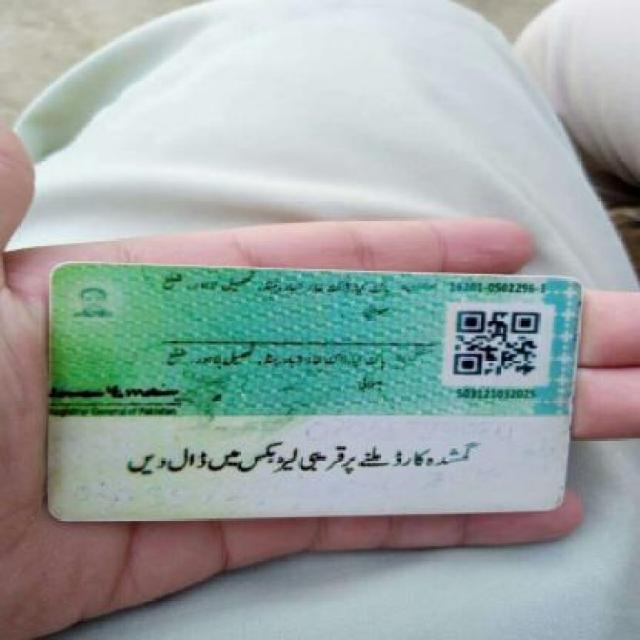Back: (35, 260, 583, 525)
